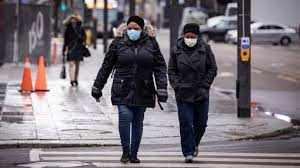mask: (125, 18, 143, 43), (184, 28, 196, 49), (71, 17, 77, 28)
